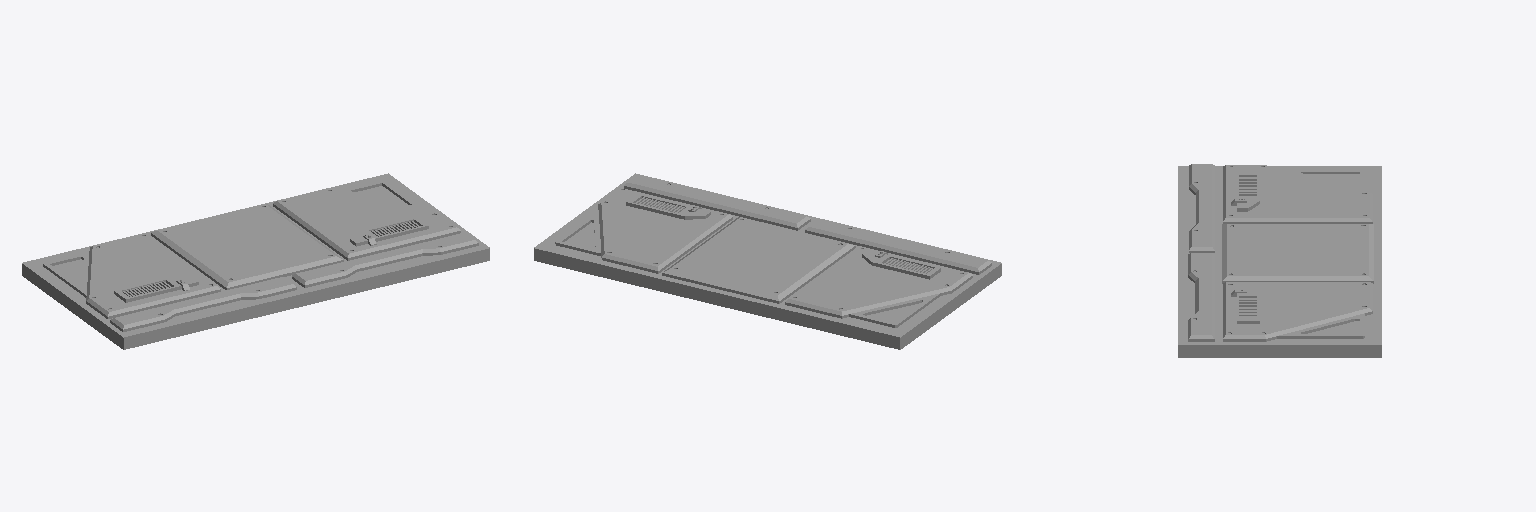
The model's file is s1_bottom_panel_3.obj.
3 views of the same model, side by side, from view 1: azimuth 30°, elevation 25°; view 2: azimuth 150°, elevation 25°; view 3: azimuth 270°, elevation 25° (orthographic).
Parts seen in each view (by area): view 1: mesh_1; view 2: mesh_1; view 3: mesh_1.
Part boxes in pixels (x1,y1,x2,y2): mesh_1: (22, 173, 489, 349); mesh_1: (534, 173, 1001, 349); mesh_1: (1178, 164, 1381, 357).
Size of the model in its own units: 38.16 by 2.4 by 18.38.